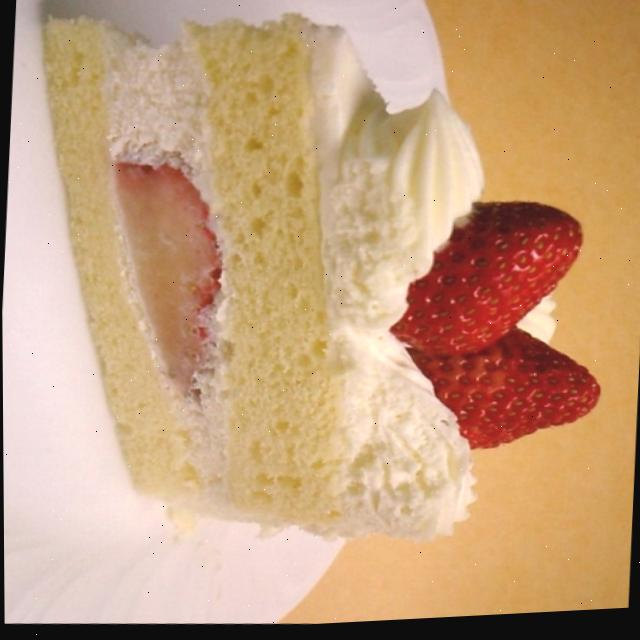蛋糕甜品: (0, 0, 639, 615)
